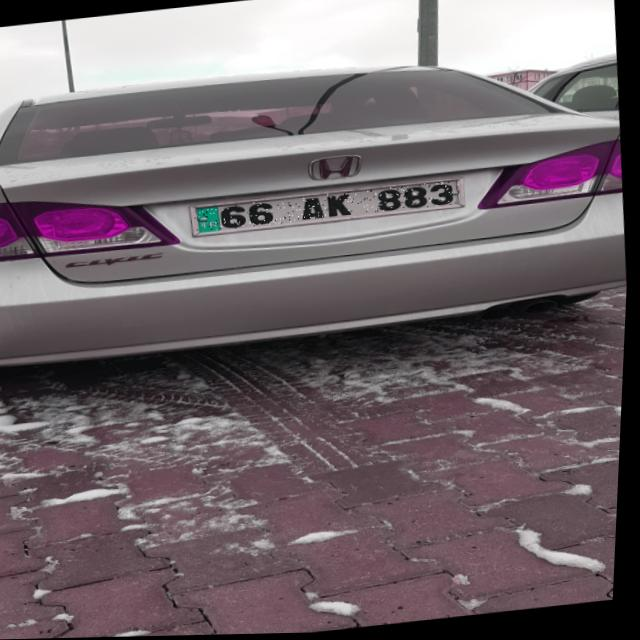license_plate: (195, 181, 462, 233)
